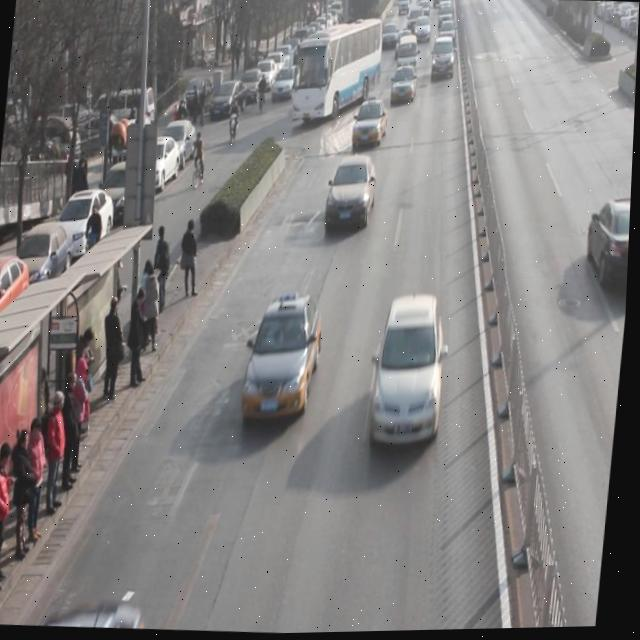car: (374, 297, 455, 449), (245, 293, 329, 422), (585, 199, 633, 293), (325, 155, 381, 234), (352, 100, 391, 150), (390, 67, 421, 107), (430, 38, 458, 82)
truck: (394, 37, 421, 85)
van: (291, 17, 387, 130)
